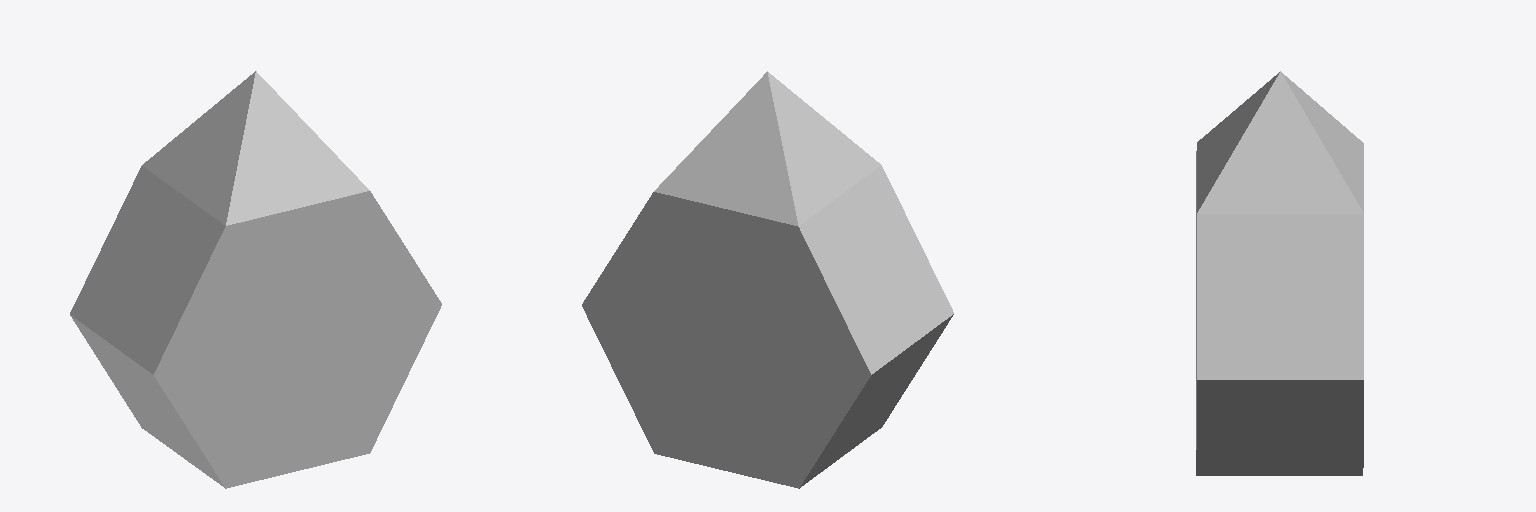
Rendered from AugmentedHexagonalPrism.obj.
3 views of the same model, side by side, from view 1: azimuth 30°, elevation 25°; view 2: azimuth 150°, elevation 25°; view 3: azimuth 270°, elevation 25° (orthographic).
Visible parts, largest first — view 1: AugmentedHexagonalPrism; view 2: AugmentedHexagonalPrism; view 3: AugmentedHexagonalPrism.
Part boxes in pixels (x1,y1,x2,y2): AugmentedHexagonalPrism: (70, 71, 441, 488); AugmentedHexagonalPrism: (582, 71, 953, 488); AugmentedHexagonalPrism: (1196, 71, 1363, 475).
Size of the model in its own units: 1.5 by 1.83 by 0.755.